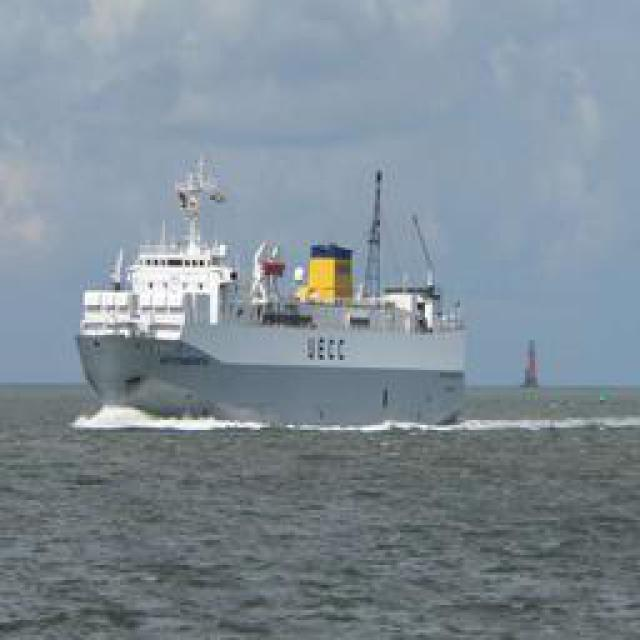Ship: (80, 149, 468, 432)
